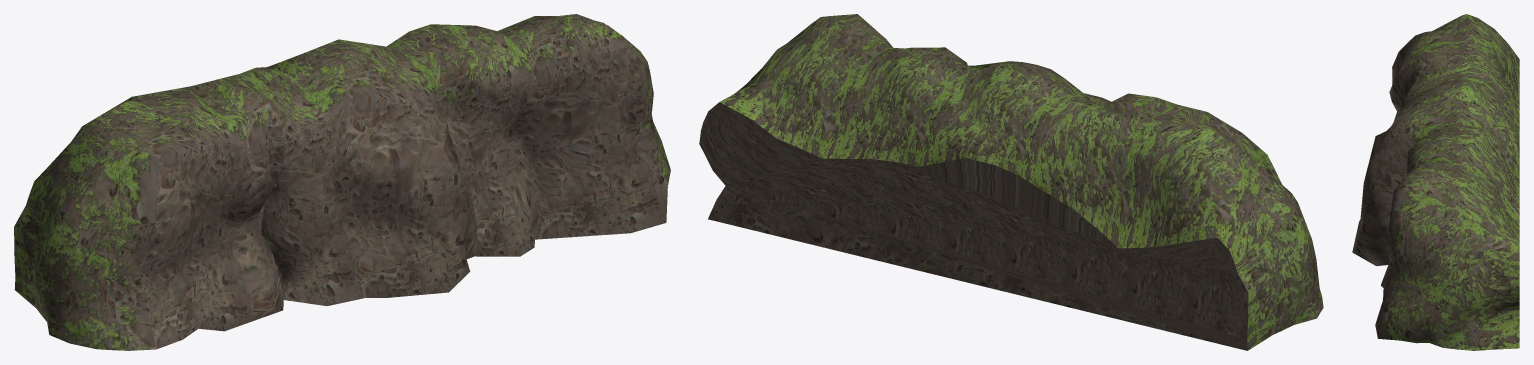
The model's file is thm_nboo_imprv_wall_rocks_s01_l0.fbx.
3 renders of one model, left to right at view 1: azimuth 30°, elevation 25°; view 2: azimuth 150°, elevation 25°; view 3: azimuth 270°, elevation 25°, orthographic. The views are drawn at different scales.
Visible parts, largest first — view 1: mesh_node; view 2: mesh_node; view 3: mesh_node.
Boxes of the visible parts, left/top/right/bottom form: mesh_node: left=14, top=14, right=670, bottom=350; mesh_node: left=699, top=14, right=1323, bottom=350; mesh_node: left=1352, top=14, right=1519, bottom=350.
Bounding box in the file's own units: 28.1 × 8.94 × 8.77.
